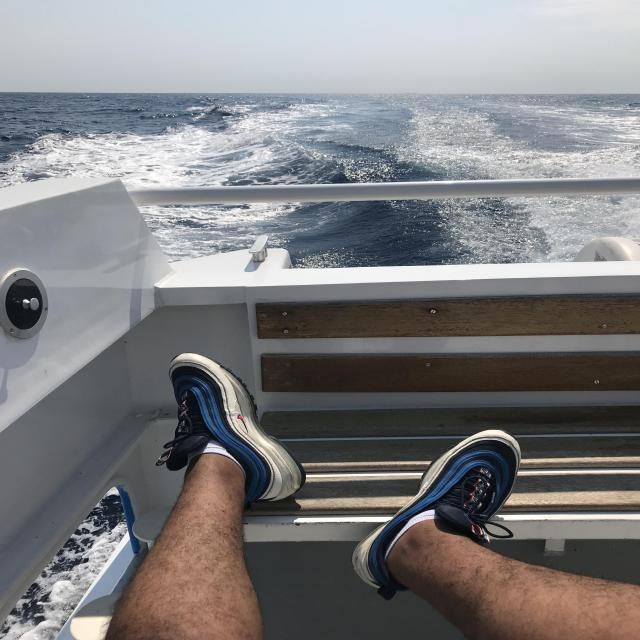shoe: (352, 429, 522, 595), (160, 352, 309, 504)
